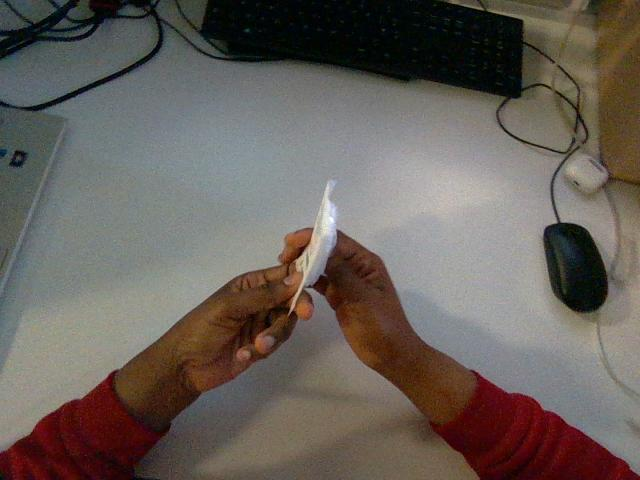gauze: (289, 180, 336, 313)
